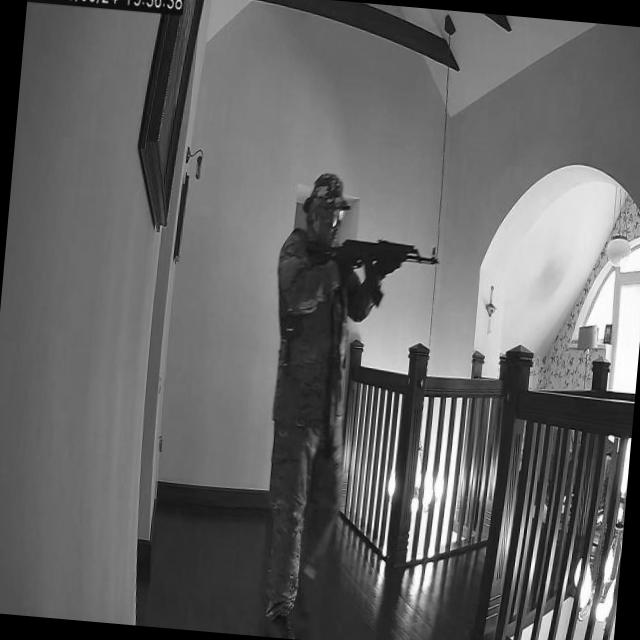gun: (308, 230, 440, 284)
person with a gun: (243, 165, 449, 640)
